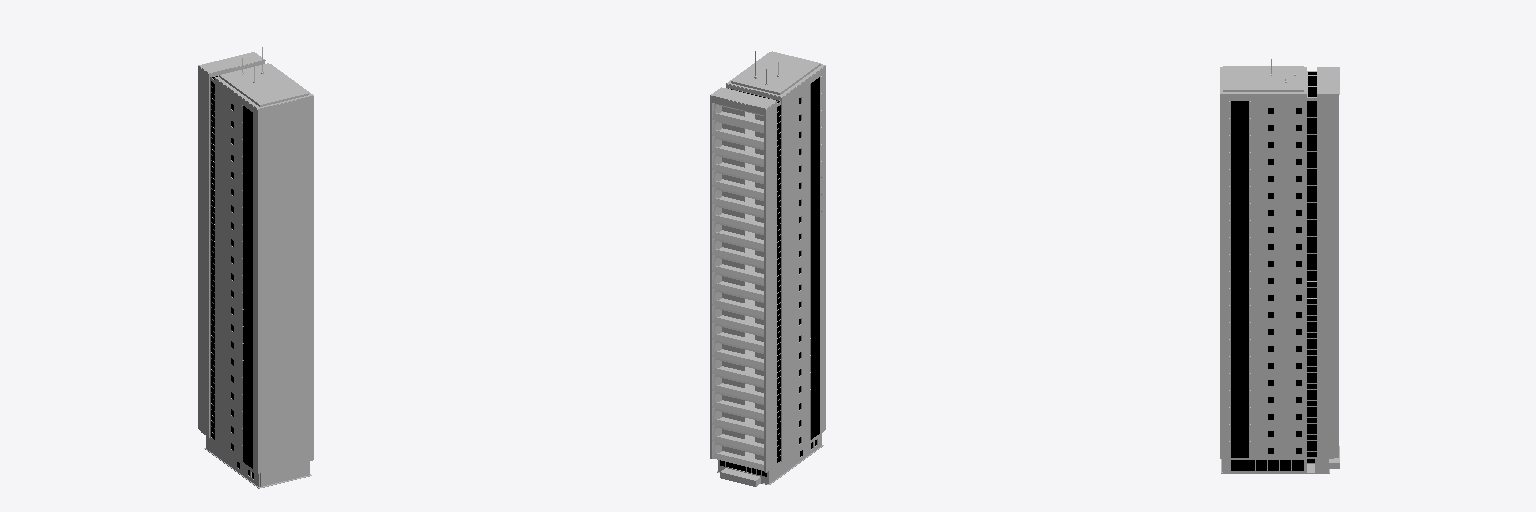
The model's file is building_009.obj.
The picture shows the model from 3 angles: view 1: azimuth 30°, elevation 25°; view 2: azimuth 150°, elevation 25°; view 3: azimuth 270°, elevation 25°; orthographic projection.
Parts seen in each view (by area): view 1: building_009; view 2: building_009; view 3: building_009.
Part boxes in pixels (x1,y1,x2,y2): building_009: (198, 47, 313, 488); building_009: (710, 51, 825, 486); building_009: (1220, 59, 1339, 473).
Size of the model in its own units: 12.59 by 86.79 by 23.1.